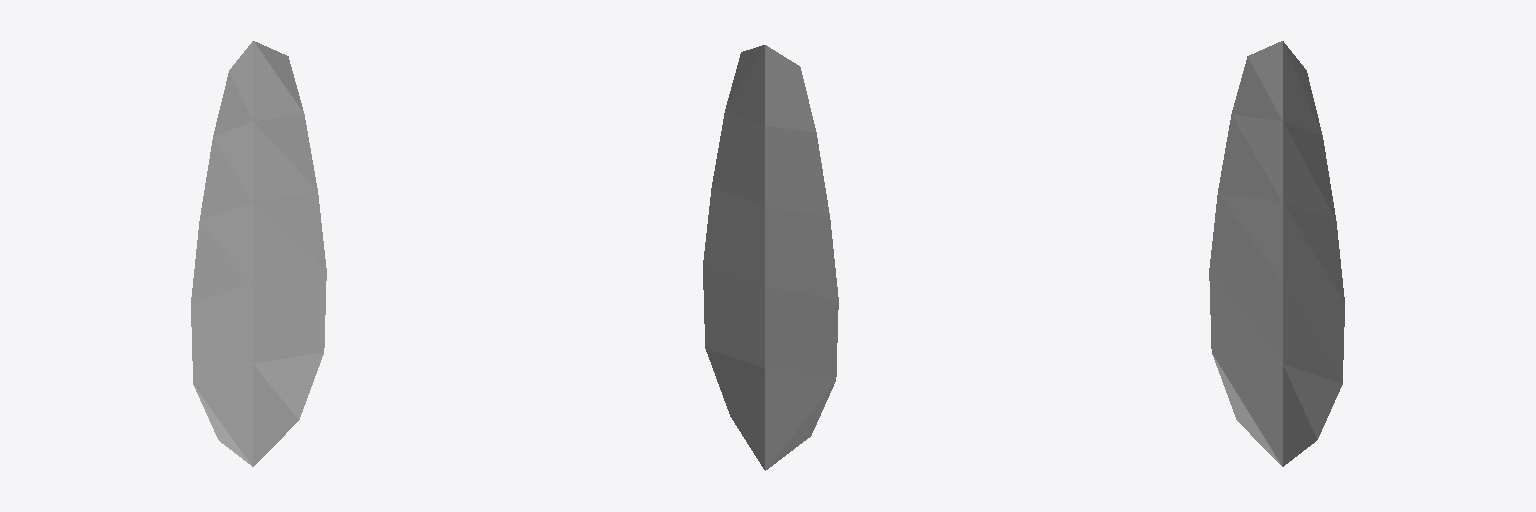
Rendered from pigeon_feather_flight_tertiary_058.obj.
3 renders of one model, left to right at view 1: azimuth 30°, elevation 25°; view 2: azimuth 150°, elevation 25°; view 3: azimuth 330°, elevation 25°, orthographic.
Parts seen in each view (by area): view 1: feather_flight_tertiary_058; view 2: feather_flight_tertiary_058; view 3: feather_flight_tertiary_058.
Boxes of the visible parts, box(x1,y1,x2,y2) form: feather_flight_tertiary_058: box(191, 41, 326, 466); feather_flight_tertiary_058: box(703, 45, 838, 470); feather_flight_tertiary_058: box(1209, 41, 1344, 466).
Size of the model in its own units: 0.006 by 0.0181 by 0.0004.